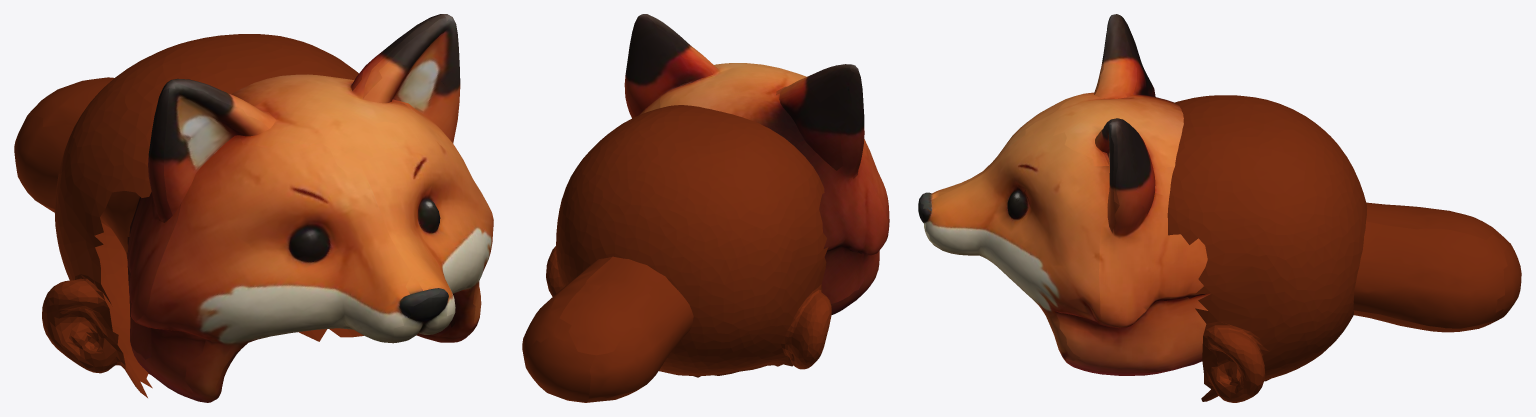
Rendered from red-fox.glb.
3 views of the same model, side by side, from view 1: azimuth 30°, elevation 25°; view 2: azimuth 150°, elevation 25°; view 3: azimuth 270°, elevation 25° (orthographic). The views are drawn at different scales.
Parts seen in each view (by area): view 1: geometry_0, HoodAnatomicalLining; view 2: HoodAnatomicalLining, geometry_0; view 3: geometry_0, HoodAnatomicalLining.
Part boxes in pixels (x1,y1,x2,y2): geometry_0: (14, 14, 493, 402); HoodAnatomicalLining: (42, 34, 363, 397); HoodAnatomicalLining: (546, 105, 831, 377); geometry_0: (522, 14, 889, 402); geometry_0: (918, 14, 1521, 375); HoodAnatomicalLining: (1167, 95, 1367, 402).
Size of the model in its own units: 0.515 by 0.4917 by 0.9092.
Materials: 2 (1 with a texture image).
